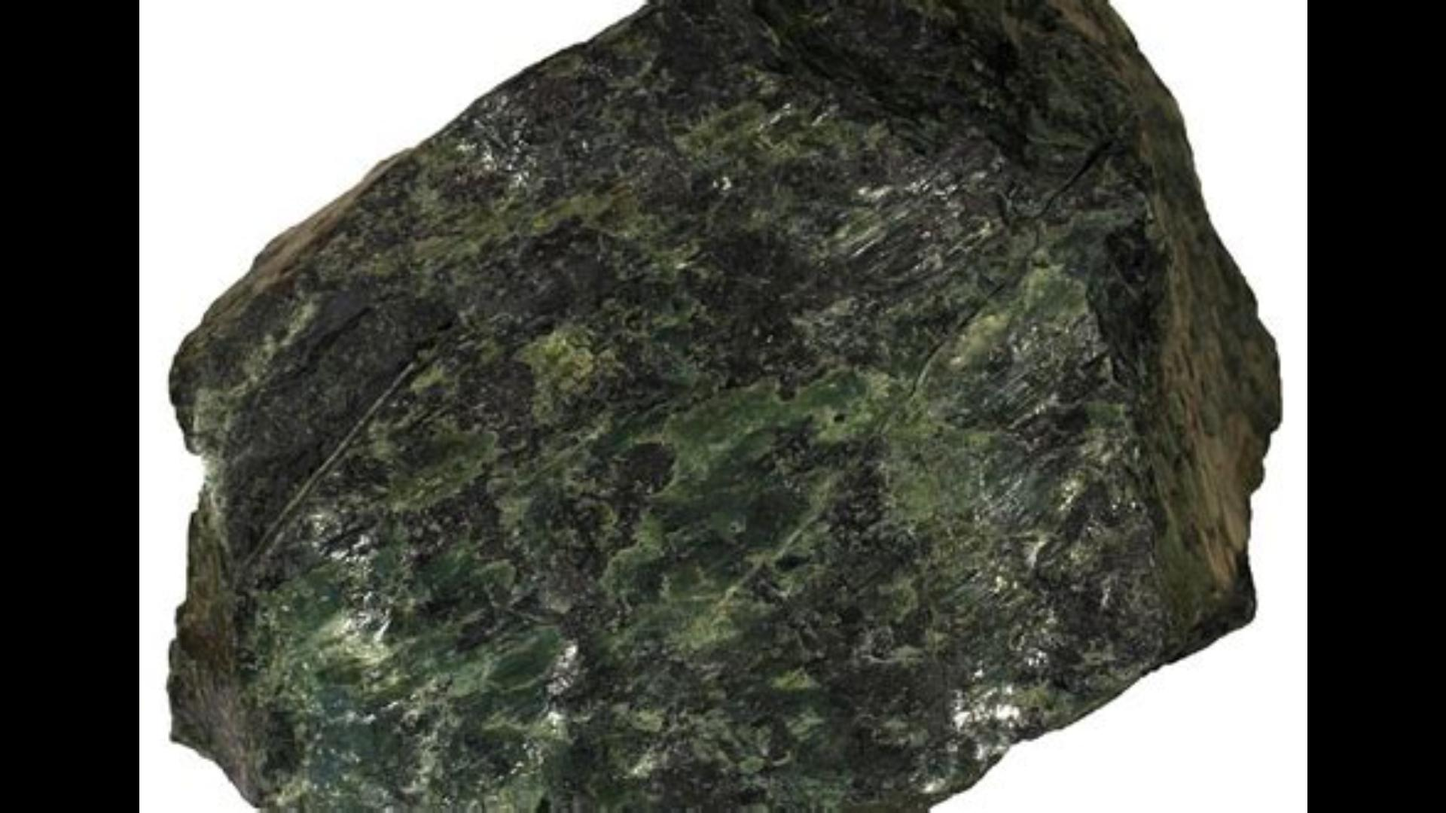rock: (173, 5, 1275, 811)
